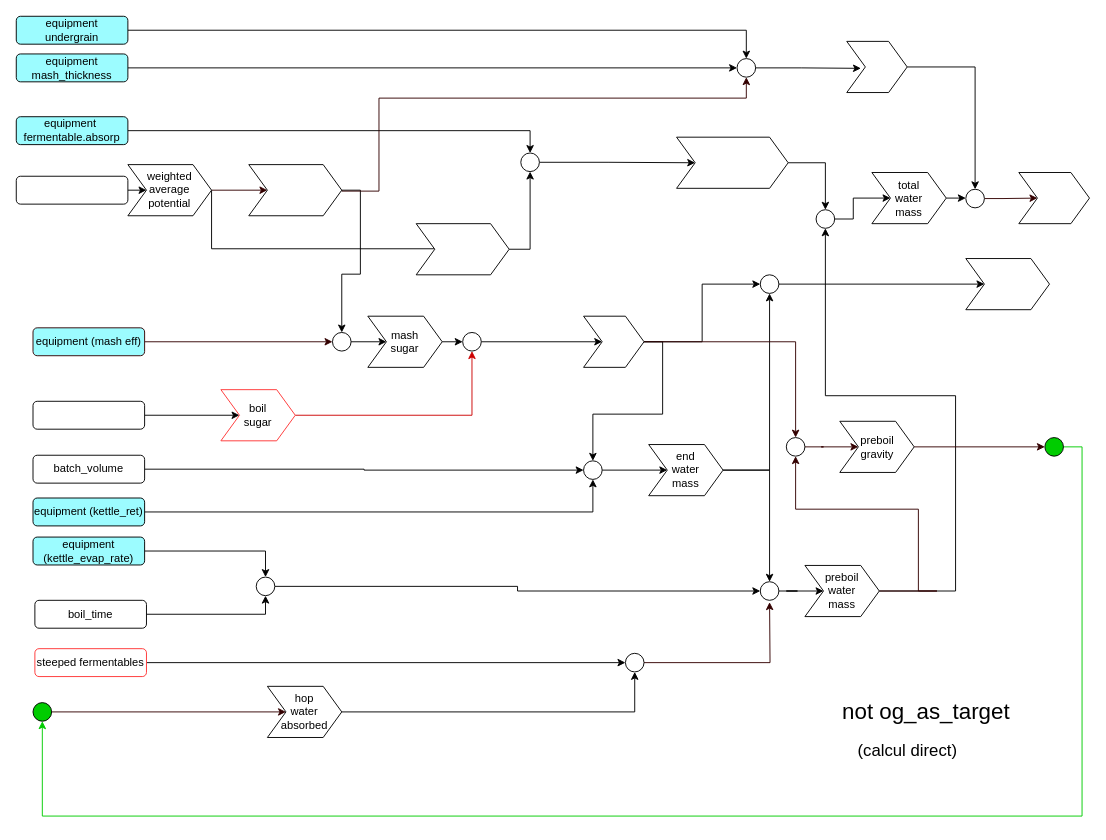
This 1106x840 diagram has some shape labels left out. Each missing label, with the box of its shape:
boil fermentables: (32, 400, 145, 429)
end sugar: (583, 315, 644, 367)
mash fermentables (proportions): (15, 175, 128, 204)
mash fermentables water absorbed: (676, 136, 788, 188)
mash water: (846, 40, 907, 93)
OG caculatied: (965, 258, 1050, 310)
sparge water: (1018, 172, 1089, 224)
total fermentable mass: (248, 164, 342, 216)
total mash fermentable mass: (415, 223, 509, 275)
